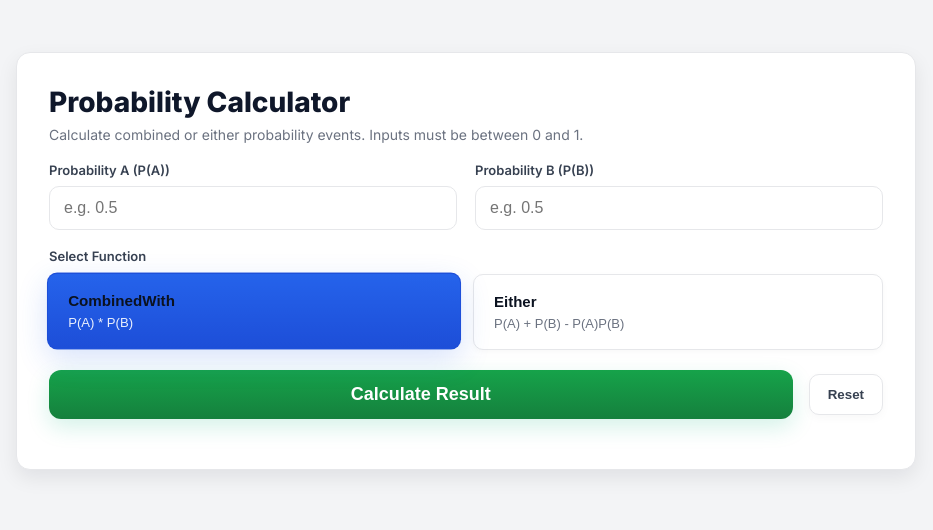
Test case: successful calculation displays result (mocked fetch)
In the number field with placeholder "e.g. 0.5" below "Probability A (P(A))": (253, 208) top-left (49, 186), bottom-right (457, 230), type "0.5"
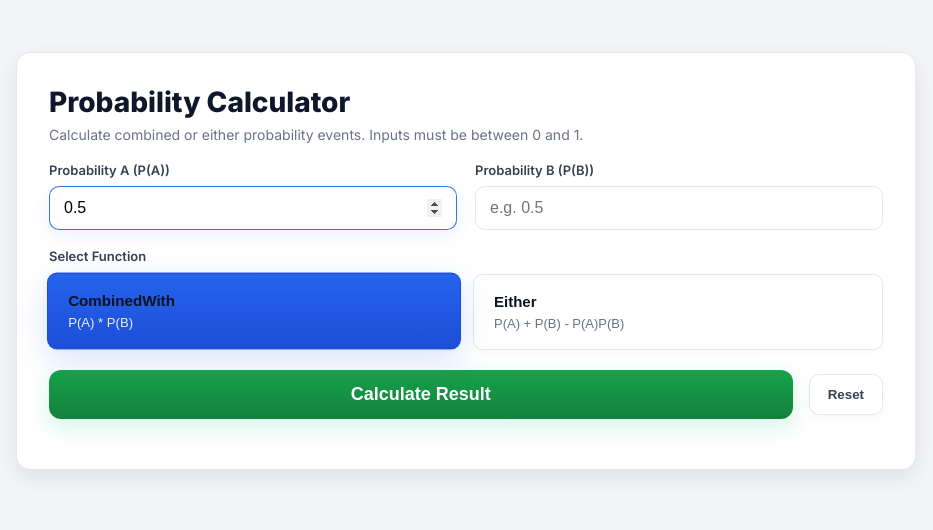
In the number field with placeholder "e.g. 0.5": (679, 208) top-left (475, 186), bottom-right (883, 230), type "0.5"
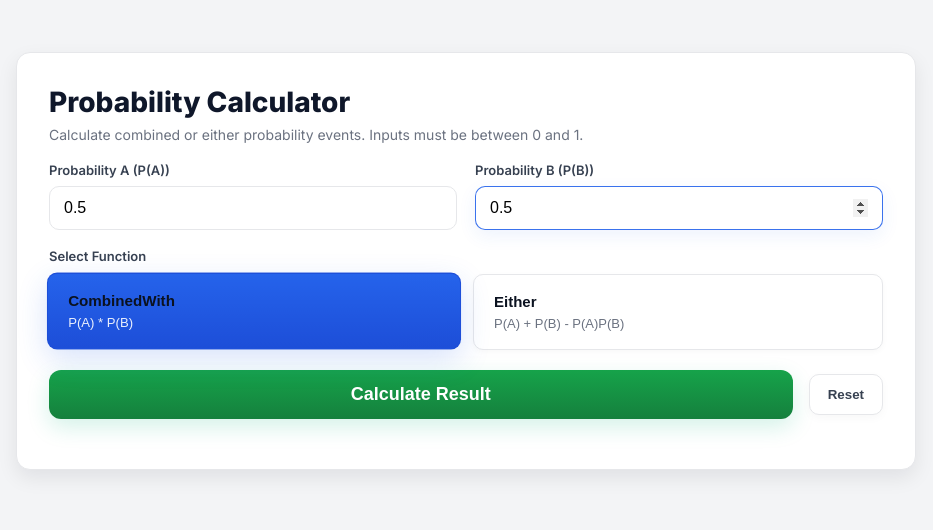
Click the button "Calculate Result": click(421, 395) top-left (49, 370), bottom-right (793, 419)
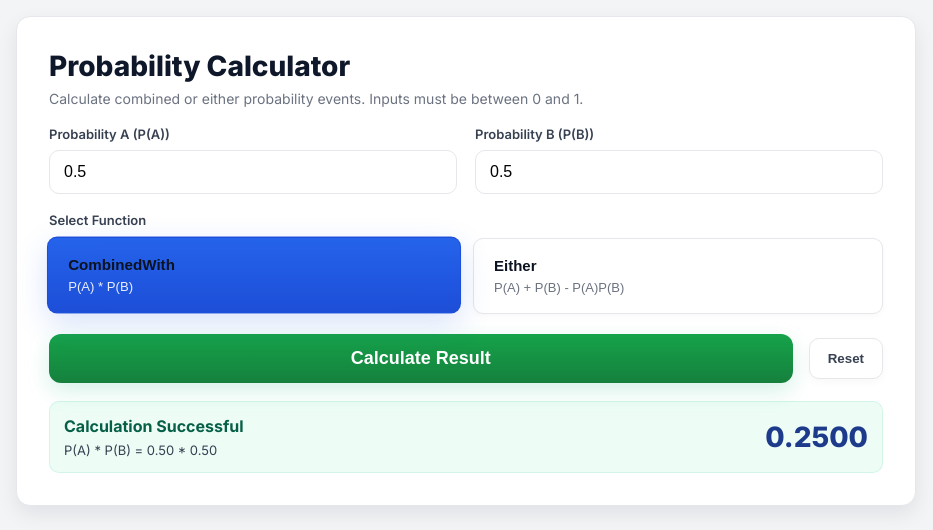
Check: the text "0.2500" is shown, box top-left (765, 420), bottom-right (868, 454)
